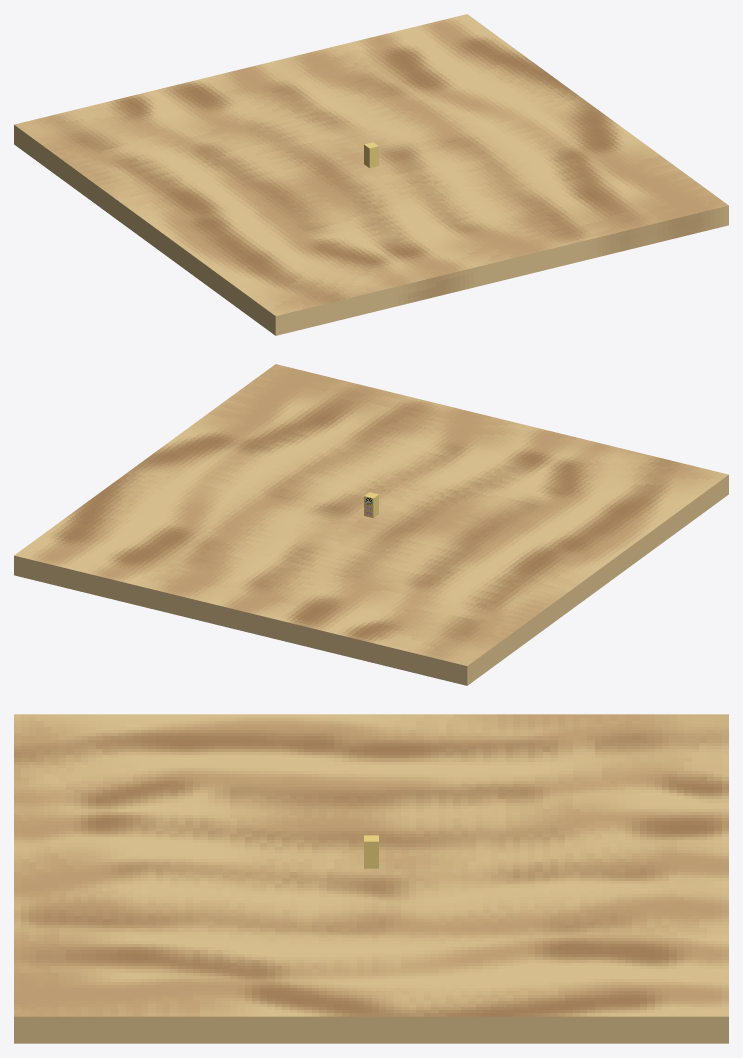
Rendered from beach map.gltf.
3 views of the same model, one above another, from view 1: azimuth 30°, elevation 25°; view 2: azimuth 150°, elevation 25°; view 3: azimuth 270°, elevation 25° (orthographic). The views are drawn at different scales.
Parts seen in each view (by area): view 1: ground; view 2: ground; view 3: ground.
Part boxes in pixels (x1,y1,x2,y2): ground: [14, 14, 728, 335]; ground: [14, 364, 728, 685]; ground: [14, 714, 728, 1043].
Bounding box in the file's own units: 3 × 0.25 × 3.
Materials: 2 (2 with a texture image).
